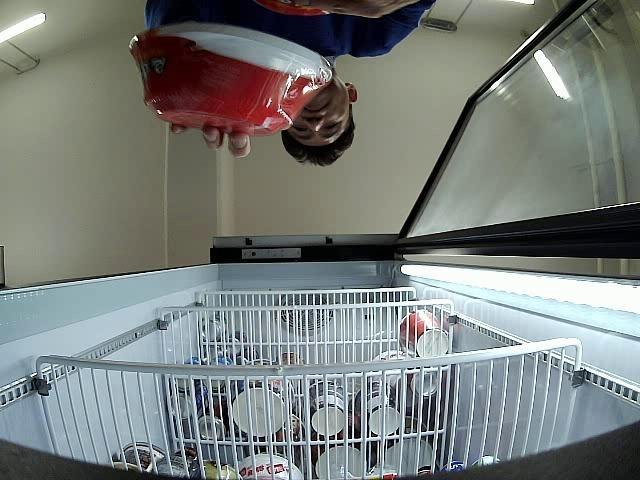10_wangTtukkeong: (128, 23, 332, 135)
